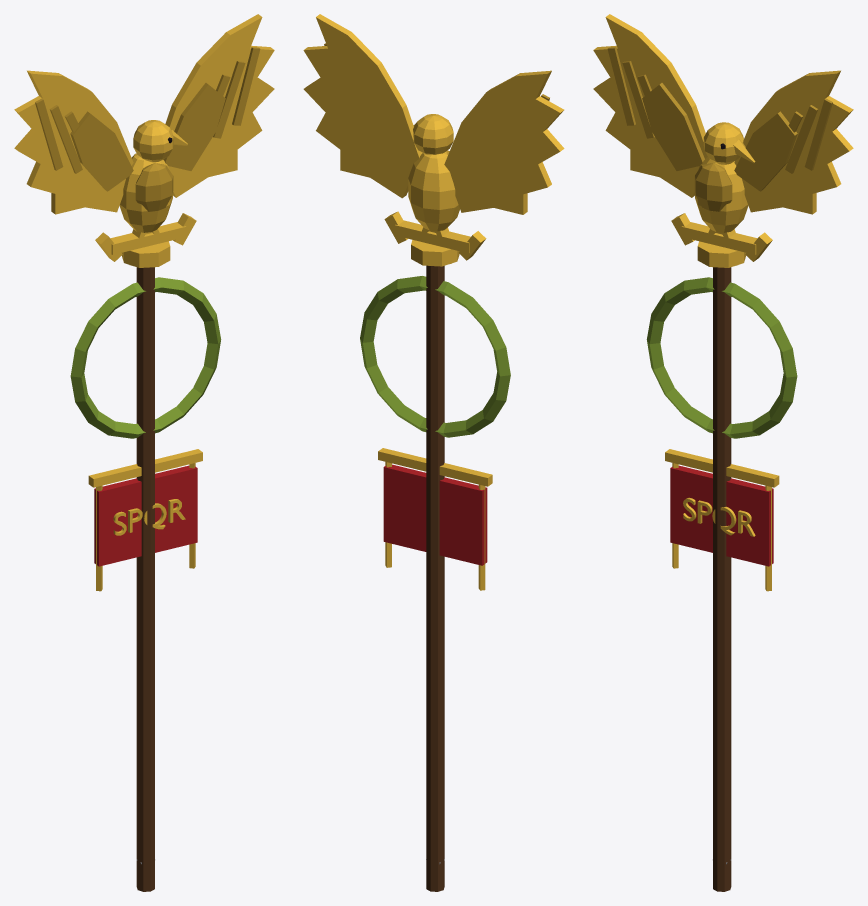
Rendered from sztandar.glb.
The picture shows the model from 3 angles, left to right: view 1: azimuth 30°, elevation 25°; view 2: azimuth 150°, elevation 25°; view 3: azimuth 330°, elevation 25°; orthographic projection.
Visible parts, largest first — view 1: sztandar; view 2: sztandar; view 3: sztandar.
Boxes of the visible parts, bbox=[...] form: sztandar: bbox=[14, 14, 274, 891]; sztandar: bbox=[303, 14, 564, 891]; sztandar: bbox=[593, 14, 853, 891].
Size of the model in its own units: 0.936 by 2.94 by 0.1751.
